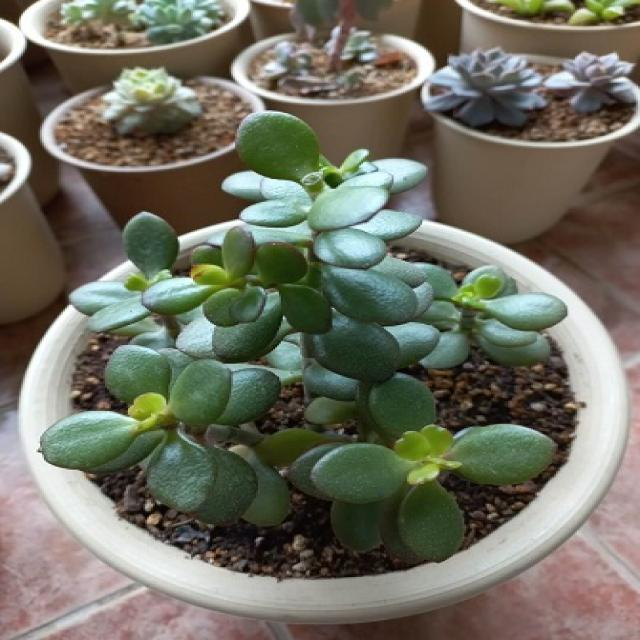Crassula: (42, 345, 289, 525), (192, 111, 427, 287), (292, 424, 555, 562), (177, 242, 437, 379), (70, 212, 265, 348), (415, 264, 567, 368)
